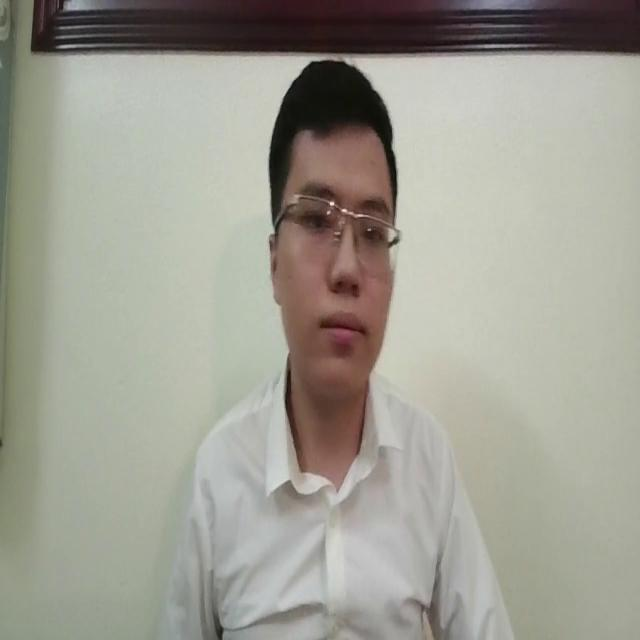student: (146, 49, 518, 640)
